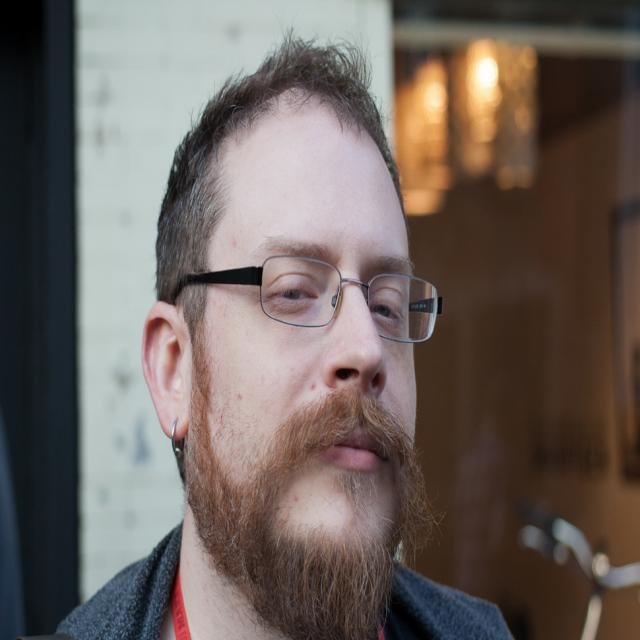Glasses: (162, 252, 442, 350)
